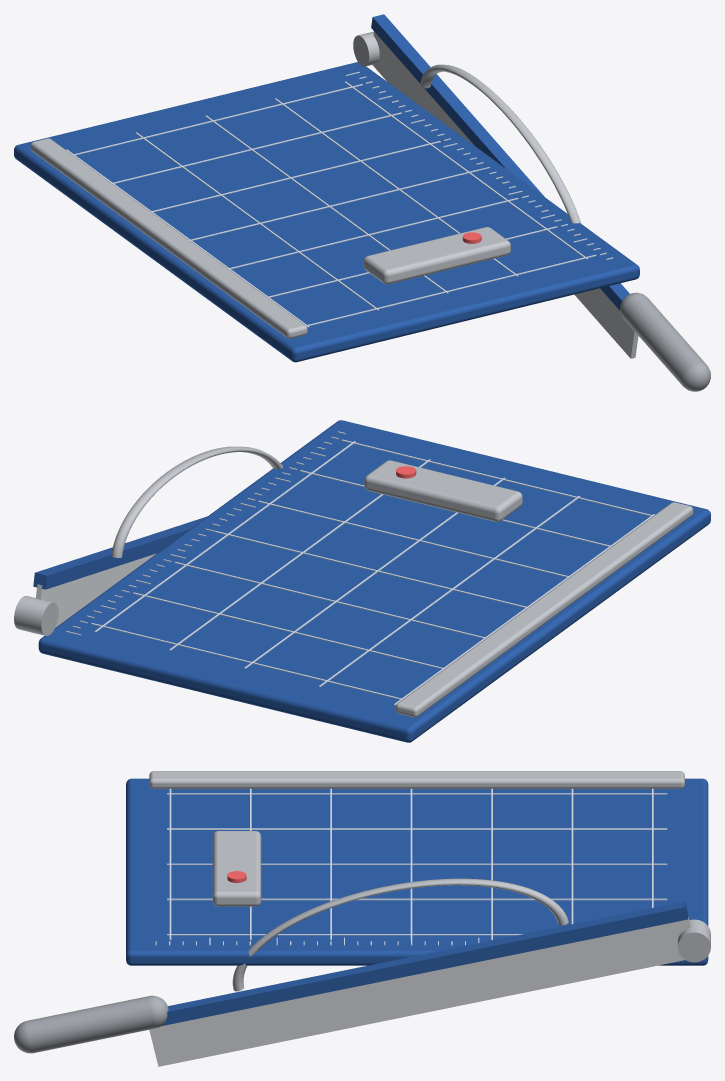
File: design_regle-cutter.glb
The picture shows the model from 3 angles, top to bottom: view 1: azimuth 30°, elevation 25°; view 2: azimuth 150°, elevation 25°; view 3: azimuth 270°, elevation 25°; orthographic projection. The views are drawn at different scales.
Parts seen in each view (by area): view 1: Plateau, Guide_gauche, Butee, Dos_lame, Lame, Poignee, Protection, Pivot, Ligne_v_1, Ligne_v_4, Ligne_h_1, Ligne_h_3 (+4 smaller); view 2: Plateau, Guide_gauche, Butee, Dos_lame, Lame, Protection, Pivot, Ligne_v_4, Ligne_v_1, Ligne_h_0, Ligne_h_6, Ligne_h_2 (+6 smaller); view 3: Plateau, Lame, Dos_lame, Guide_gauche, Poignee, Butee, Protection, Ligne_v_3, Pivot, Ligne_v_1, Ligne_v_0, Ligne_v_2 (+1 smaller).
Part boxes in pixels (bbox=[...]): Plateau: bbox=[14, 62, 639, 362]; Guide_gauche: bbox=[30, 138, 307, 338]; Butee: bbox=[363, 227, 510, 284]; Dos_lame: bbox=[371, 14, 629, 310]; Lame: bbox=[373, 31, 638, 358]; Poignee: bbox=[620, 292, 710, 391]; Protection: bbox=[420, 64, 581, 223]; Pivot: bbox=[353, 31, 379, 66]; Ligne_v_1: bbox=[135, 132, 378, 310]; Ligne_v_4: bbox=[344, 81, 587, 259]; Ligne_h_1: bbox=[111, 112, 401, 183]; Ligne_h_3: bbox=[189, 169, 479, 240]; Plateau: bbox=[38, 420, 710, 742]; Guide_gauche: bbox=[395, 502, 693, 717]; Butee: bbox=[364, 460, 522, 521]; Dos_lame: bbox=[33, 516, 207, 589]; Lame: bbox=[35, 553, 156, 627]; Protection: bbox=[111, 446, 282, 557]; Pivot: bbox=[14, 595, 58, 635]; Ligne_v_4: bbox=[94, 441, 355, 632]; Ligne_v_1: bbox=[319, 496, 580, 687]; Ligne_h_0: bbox=[91, 623, 402, 699]; Ligne_h_6: bbox=[341, 439, 653, 516]; Ligne_h_2: bbox=[174, 562, 486, 638]; Plateau: bbox=[126, 778, 708, 965]; Lame: bbox=[149, 916, 690, 1066]; Dos_lame: bbox=[161, 901, 688, 1026]; Guide_gauche: bbox=[149, 771, 684, 788]; Poignee: bbox=[14, 995, 168, 1053]; Butee: bbox=[212, 831, 261, 906]; Protection: bbox=[232, 878, 568, 991]; Ligne_v_3: bbox=[167, 898, 667, 900]; Pivot: bbox=[677, 919, 710, 962]; Ligne_v_1: bbox=[167, 828, 667, 829]; Ligne_v_0: bbox=[167, 793, 667, 794]; Ligne_v_2: bbox=[167, 863, 667, 864].
Size of the model in its own units: 0.318 by 0.1435 by 0.5029.
